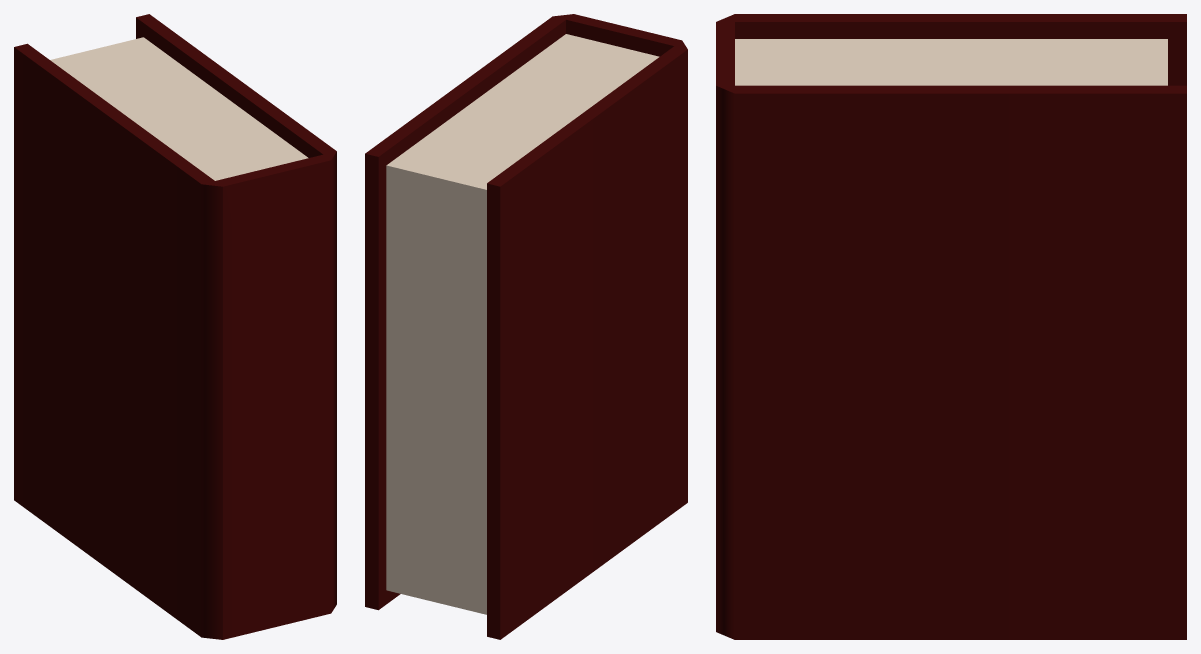
3 views of the same model, side by side, from view 1: azimuth 30°, elevation 25°; view 2: azimuth 150°, elevation 25°; view 3: azimuth 270°, elevation 25° (orthographic). The views are drawn at different scales.
Visible parts, largest first — view 1: Book03_0.1x0.25x0.32; view 2: Book03_0.1x0.25x0.32; view 3: Book03_0.1x0.25x0.32.
Part boxes in pixels (left/top/right/bottom): Book03_0.1x0.25x0.32: left=14, top=14, right=336, bottom=639; Book03_0.1x0.25x0.32: left=365, top=14, right=687, bottom=639; Book03_0.1x0.25x0.32: left=716, top=14, right=1186, bottom=639.
Size of the model in its own units: 0.1 by 0.32 by 0.25.
